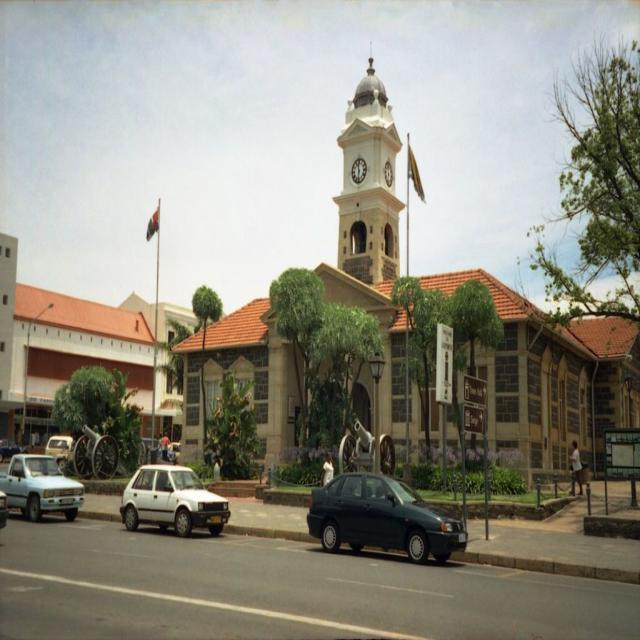car: (306, 471, 467, 562), (120, 467, 230, 535)
